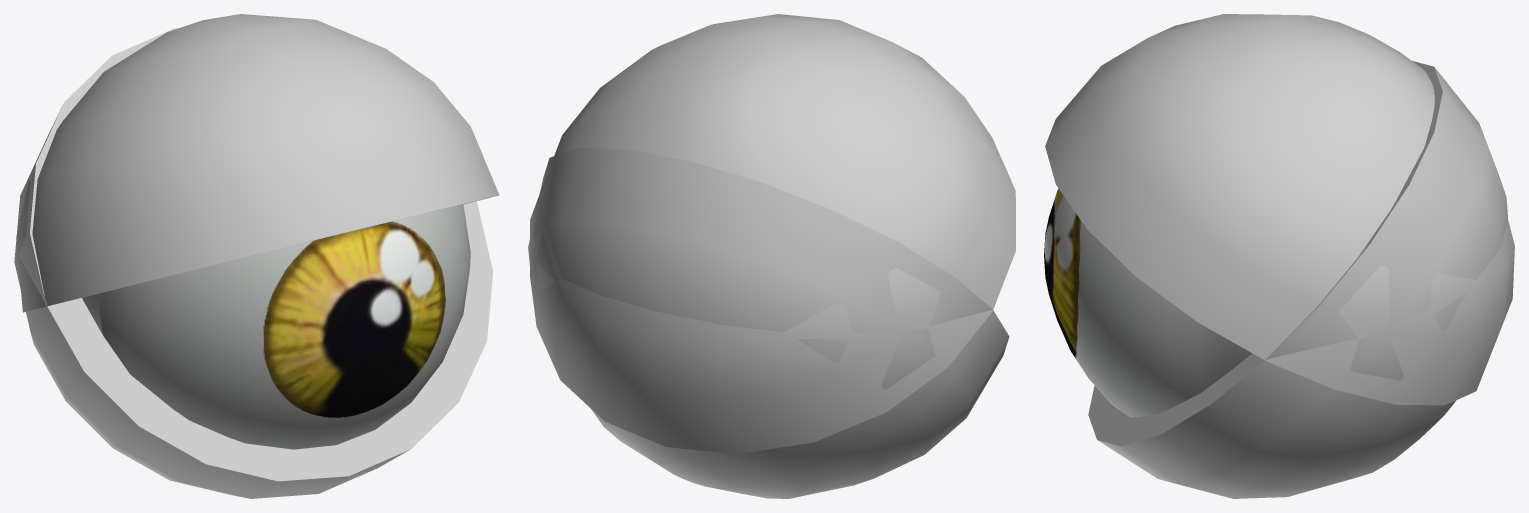
The model's file is ojosBonnie.fbx.
3 views of the same model, side by side, from view 1: azimuth 30°, elevation 25°; view 2: azimuth 150°, elevation 25°; view 3: azimuth 270°, elevation 25° (orthographic).
Visible parts, largest first — view 1: OjoDerecho; view 2: OjoDerecho; view 3: OjoDerecho.
Boxes of the visible parts, x1=… form: OjoDerecho: x1=14, y1=14, x2=499, y2=498; OjoDerecho: x1=528, y1=14, x2=1015, y2=498; OjoDerecho: x1=1044, y1=14, x2=1514, y2=498.
Size of the model in its own units: 26.75 by 25.89 by 25.04.
